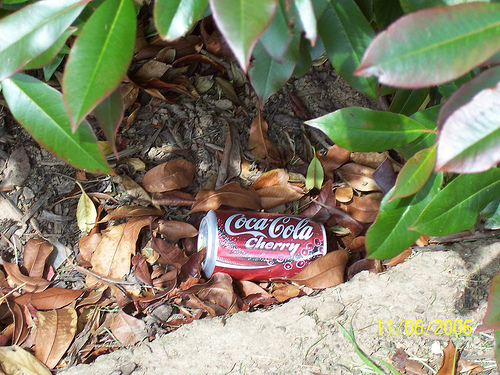litter: (196, 207, 329, 281)
